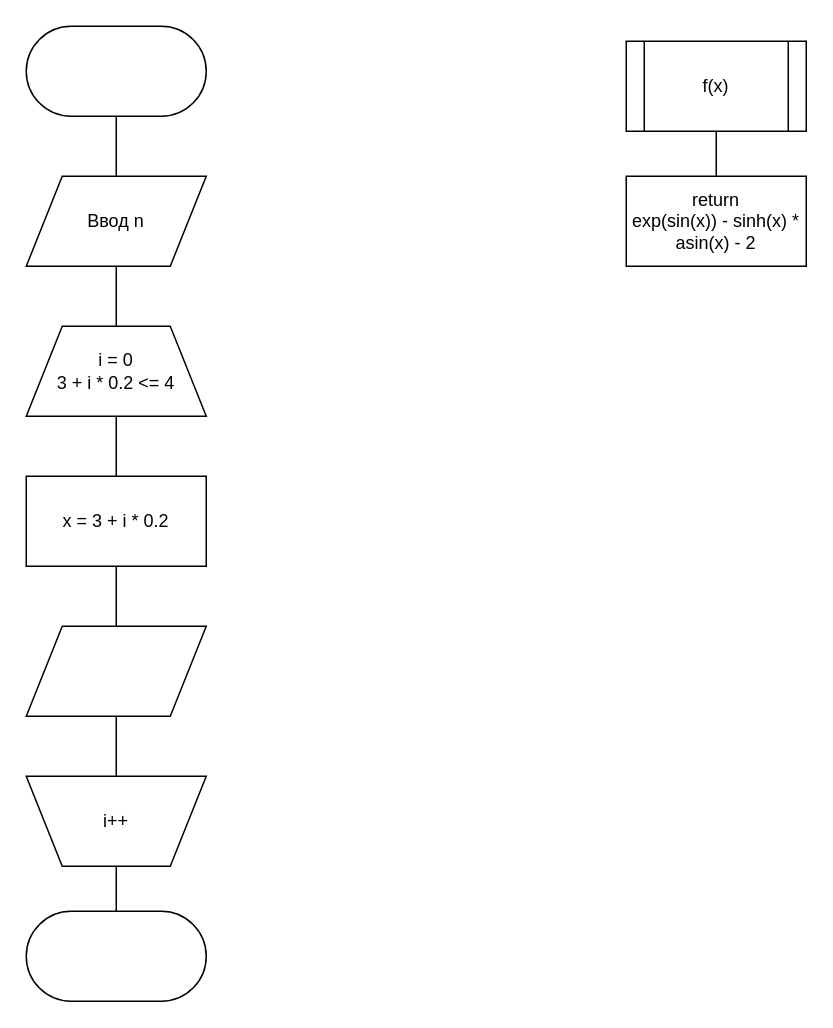
This 833x1028 diagram has some shape labels left out. The box of each missing label's shape, as (x1, y1, x2, y2) in pixels:
Вывод x, f(x): (25, 625, 206, 716)
Конец: (25, 910, 206, 1001)
Начало: (25, 25, 206, 116)
